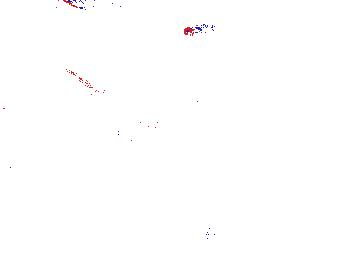X-ray fish: (198, 219, 256, 250)
red belly glassfish: (182, 22, 218, 38)
